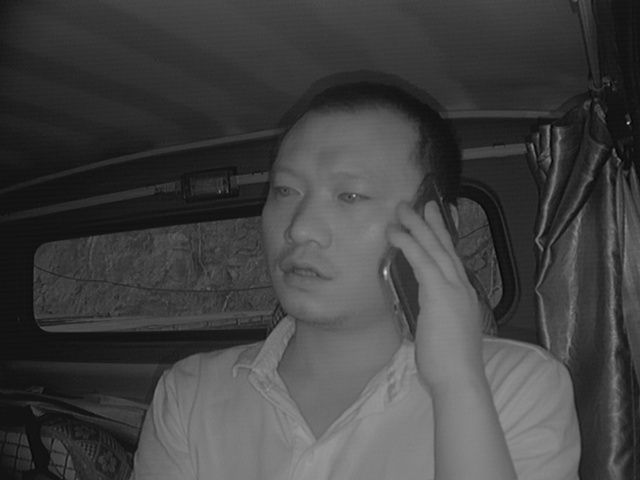hand: (384, 200, 491, 373)
